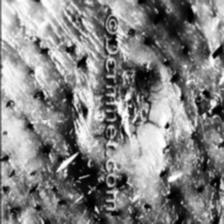Potentially Malignant Skin Tumors: (126, 53, 168, 120)
